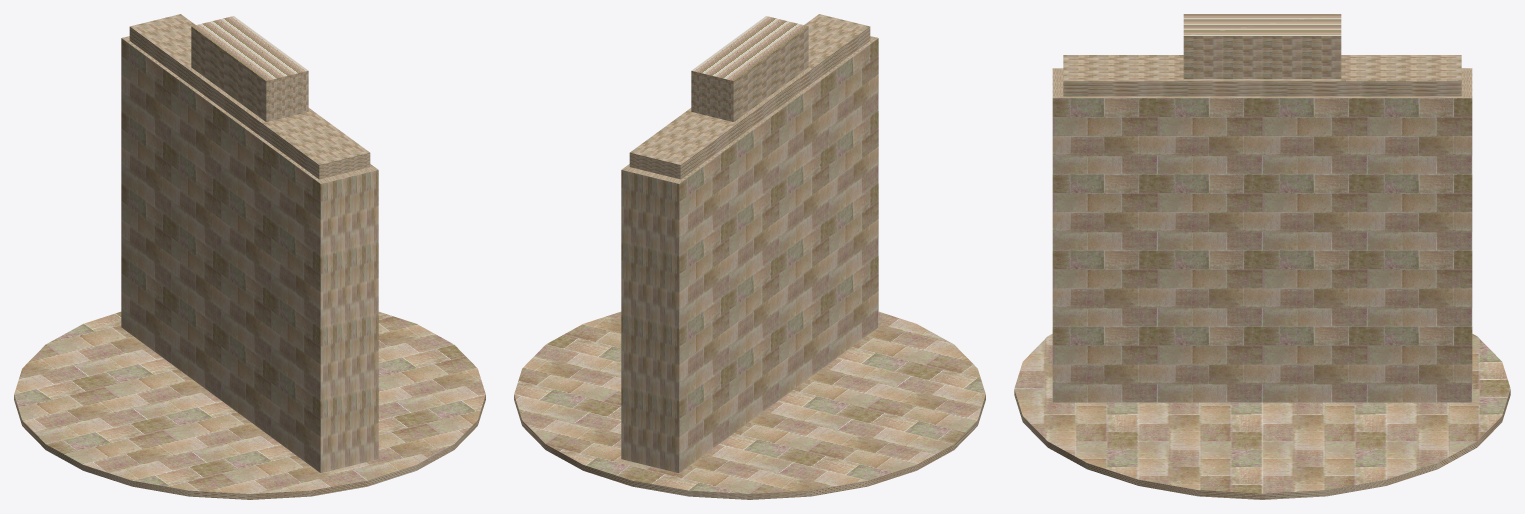
Rendered from primitivo.gltf.
The picture shows the model from 3 angles, left to right: view 1: azimuth 30°, elevation 25°; view 2: azimuth 150°, elevation 25°; view 3: azimuth 270°, elevation 25°; orthographic projection. The views are drawn at different scales.
Visible parts, largest first — view 1: Prim_BaseArco; view 2: Prim_BaseArco; view 3: Prim_BaseArco.
Boxes of the visible parts, x1,y1,x2,y2 form: Prim_BaseArco: [14, 14, 485, 499]; Prim_BaseArco: [514, 14, 985, 499]; Prim_BaseArco: [1014, 14, 1510, 499].
Size of the model in its own units: 414 by 341 by 414.
Materials: 1 (1 with a texture image).
